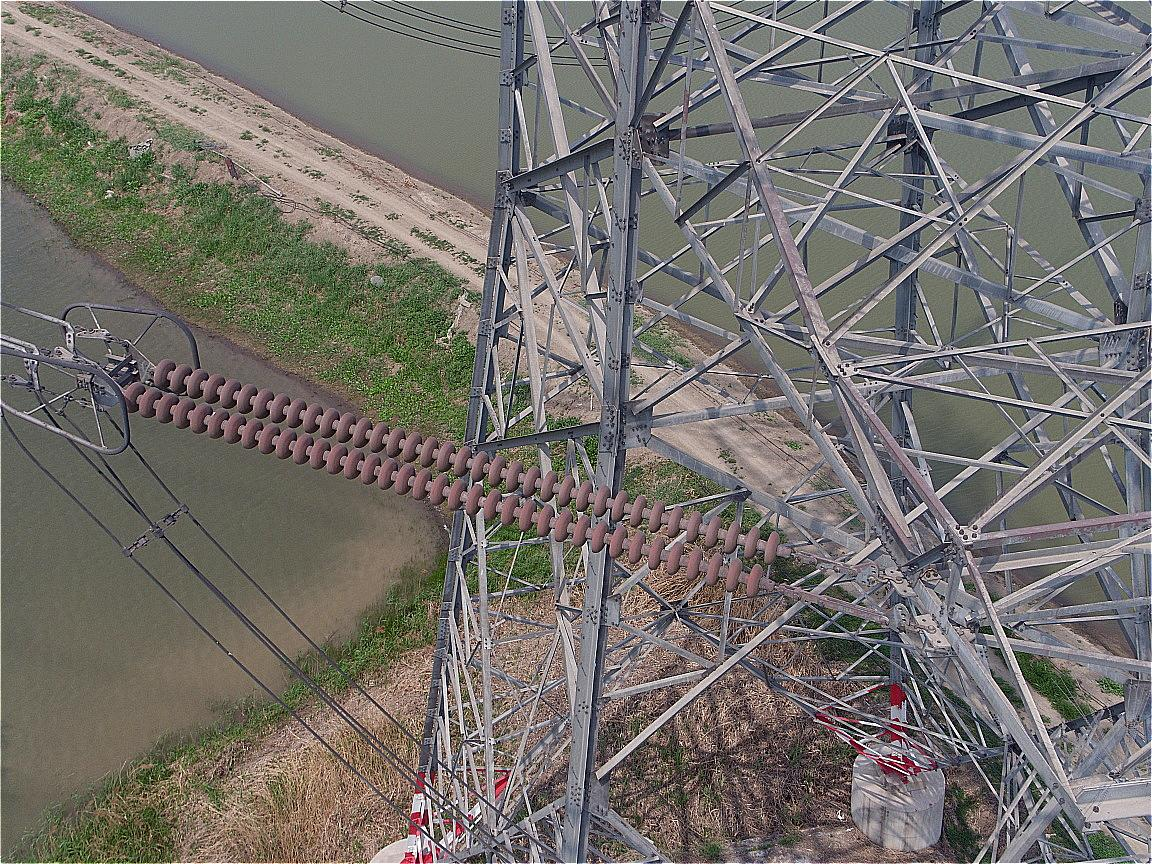insultor1: (125, 357, 783, 600)
